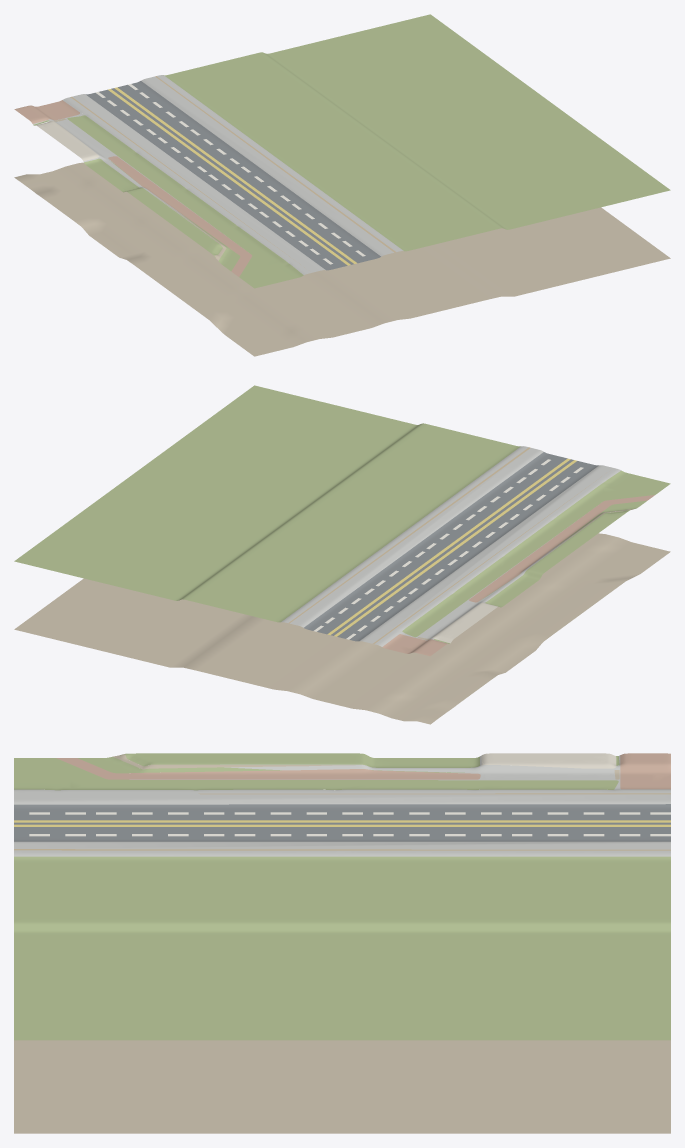
3 views of the same model, one above another, from view 1: azimuth 30°, elevation 25°; view 2: azimuth 150°, elevation 25°; view 3: azimuth 270°, elevation 25° (orthographic). The views are drawn at different scales.
Parts seen in each view (by area): view 1: s_1_3__grass, s_1_3__soil, s_1_3__stone_paving, s_1_3__asphalt, s_1_3__brick_paving, s_1_3__yellow_marking, s_1_3__white_marking, s_1_3__timber_deck, s_1_3__paving; view 2: s_1_3__grass, s_1_3__soil, s_1_3__stone_paving, s_1_3__asphalt, s_1_3__brick_paving, s_1_3__yellow_marking, s_1_3__white_marking, s_1_3__timber_deck, s_1_3__paving; view 3: s_1_3__grass, s_1_3__soil, s_1_3__stone_paving, s_1_3__asphalt, s_1_3__brick_paving, s_1_3__yellow_marking, s_1_3__white_marking, s_1_3__timber_deck, s_1_3__paving.
Part boxes in pixels (x1,y1,x2,y2): s_1_3__grass: (33,14,670,288); s_1_3__soil: (14,118,670,356); s_1_3__stone_paving: (33,75,403,274); s_1_3__asphalt: (85,81,380,270); s_1_3__brick_paving: (14,100,251,276); s_1_3__yellow_marking: (108,87,356,265); s_1_3__white_marking: (96,84,365,264); s_1_3__timber_deck: (70,76,395,267); s_1_3__paving: (35,120,99,161); s_1_3__grass: (14,385,670,643); s_1_3__soil: (14,509,670,724); s_1_3__stone_paving: (281,446,621,646); s_1_3__asphalt: (304,452,598,641); s_1_3__brick_paving: (382,495,654,656); s_1_3__yellow_marking: (327,458,577,636); s_1_3__white_marking: (314,459,583,639); s_1_3__timber_deck: (288,447,601,643); s_1_3__paving: (432,602,497,643); s_1_3__grass: (14,753,670,1040); s_1_3__soil: (14,754,670,1133); s_1_3__stone_paving: (14,755,670,856); s_1_3__asphalt: (14,804,670,841); s_1_3__brick_paving: (56,753,670,789); s_1_3__yellow_marking: (14,820,670,826); s_1_3__white_marking: (29,812,670,836); s_1_3__timber_deck: (14,793,670,850); s_1_3__paving: (481,753,616,768).
Bounding box in the file's own units: 128 × 22.01 × 128.
